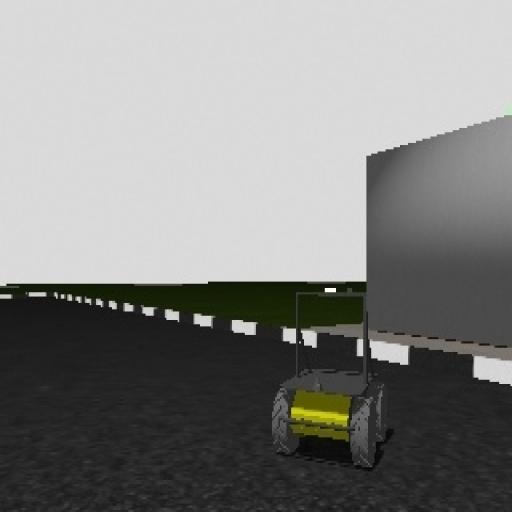huskya200: (244, 271, 402, 472)
